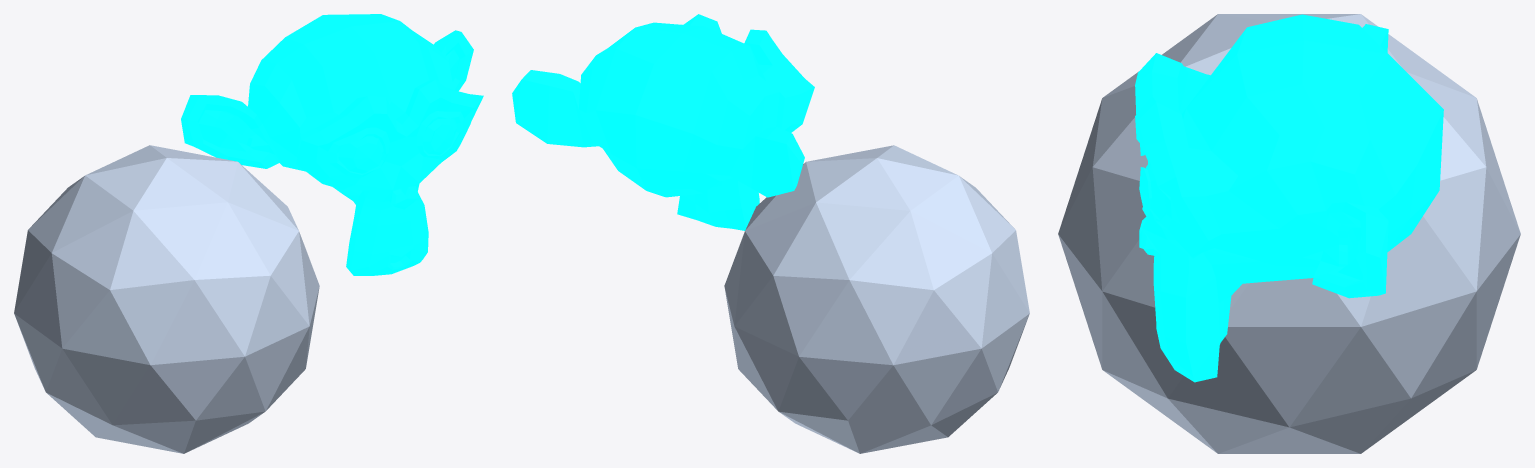
Rendered from light03DiffLight.gltf.
3 renders of one model, left to right at view 1: azimuth 30°, elevation 25°; view 2: azimuth 150°, elevation 25°; view 3: azimuth 270°, elevation 25°, orthographic. The views are drawn at different scales.
Parts seen in each view (by area): view 1: Icosphere, Suzanne; view 2: Icosphere, Suzanne; view 3: Icosphere, Suzanne.
Part boxes in pixels (x1=…): Icosphere: x1=14, y1=145, x2=319, y2=453; Suzanne: x1=181, y1=14, x2=483, y2=275; Icosphere: x1=724, y1=145, x2=1029, y2=453; Suzanne: x1=512, y1=14, x2=814, y2=230; Icosphere: x1=1058, y1=14, x2=1520, y2=453; Suzanne: x1=1135, y1=14, x2=1443, y2=382.
Size of the model in its own units: 1.65 by 1.24 by 0.9649.
